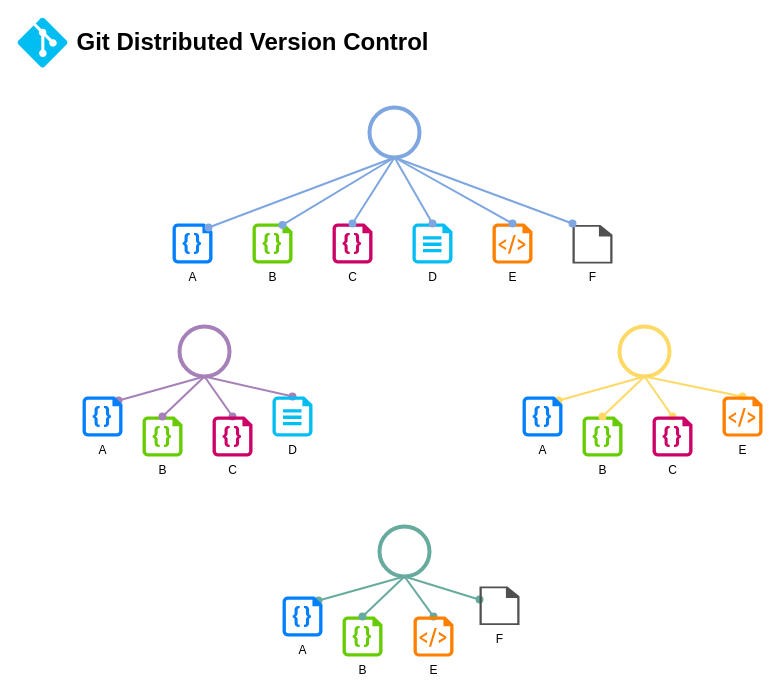
This 779x694 diagram has some shape labels left out. The shapes that lost their labels are listed below. From the top down, each one's centre as x and y in pixels, then its label:
At point (394, 132): "Repo 1".
At point (204, 351): "Repo 2".
At point (644, 351): "Repo 3".
At point (404, 551): "Repo 4".
